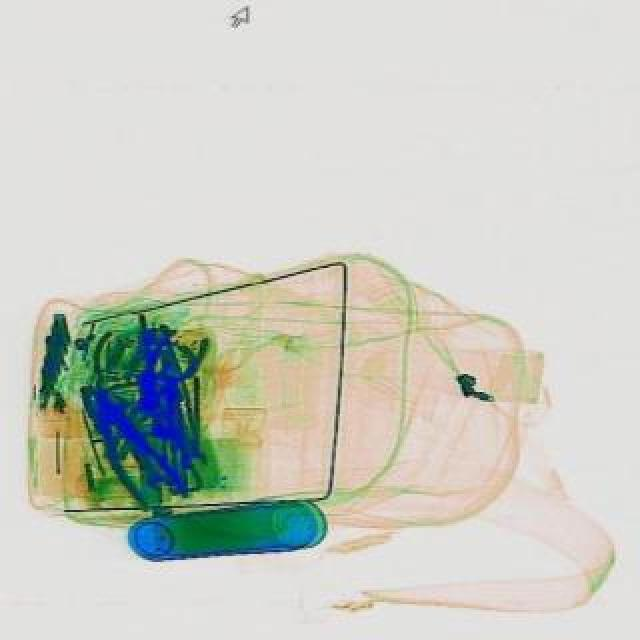wrench: (64, 372, 198, 516), (66, 324, 168, 420)
